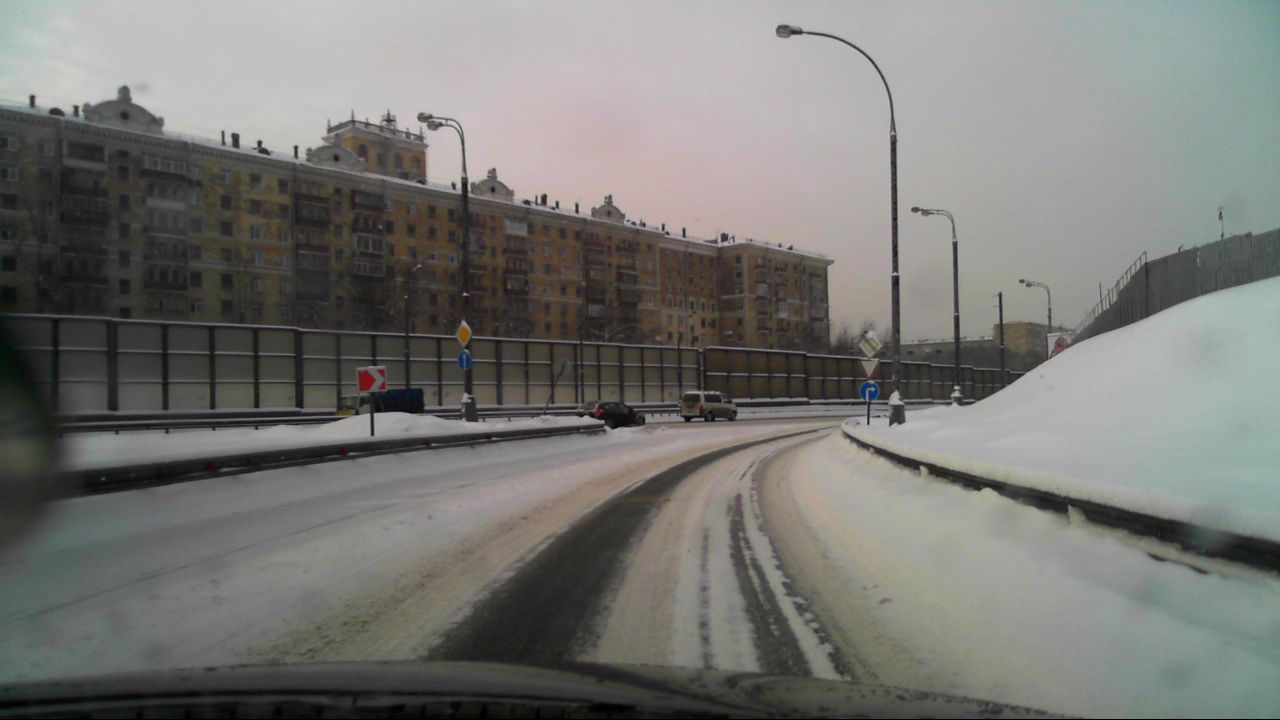main road: (858, 330, 880, 358)
